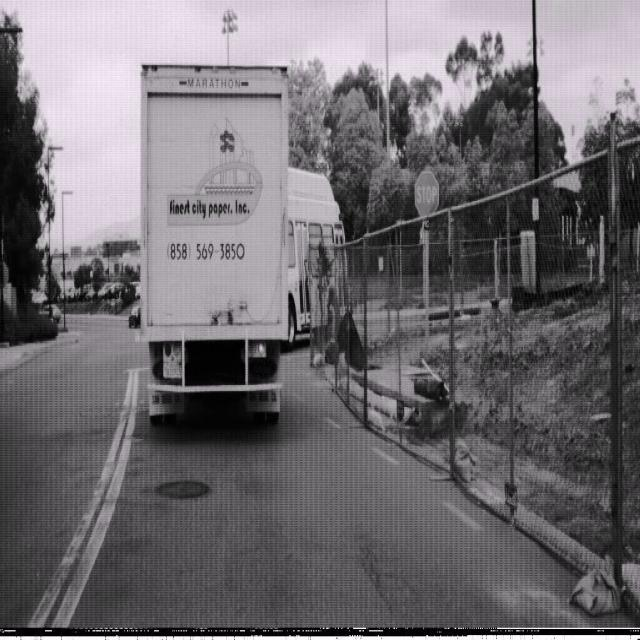stop: (414, 169, 439, 220)
